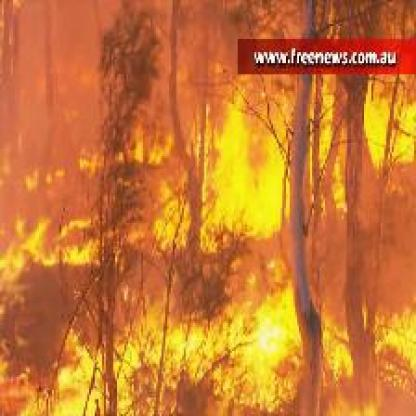fire: (15, 78, 410, 408)
